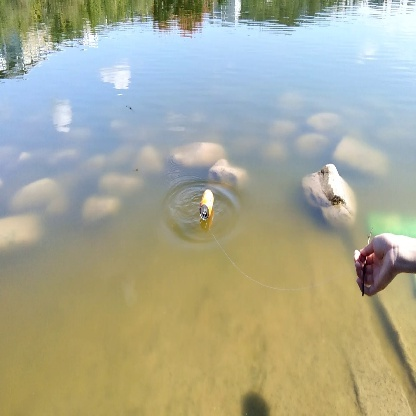bottle: (193, 182, 219, 221)
